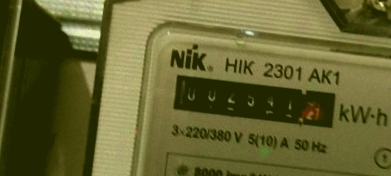0: (182, 79, 198, 102), (203, 80, 218, 102)
1: (282, 91, 295, 112)
2: (223, 84, 238, 105)
4: (263, 88, 277, 110)
5: (242, 85, 257, 108)
6: (303, 106, 315, 122)
screen: (160, 62, 347, 138)
